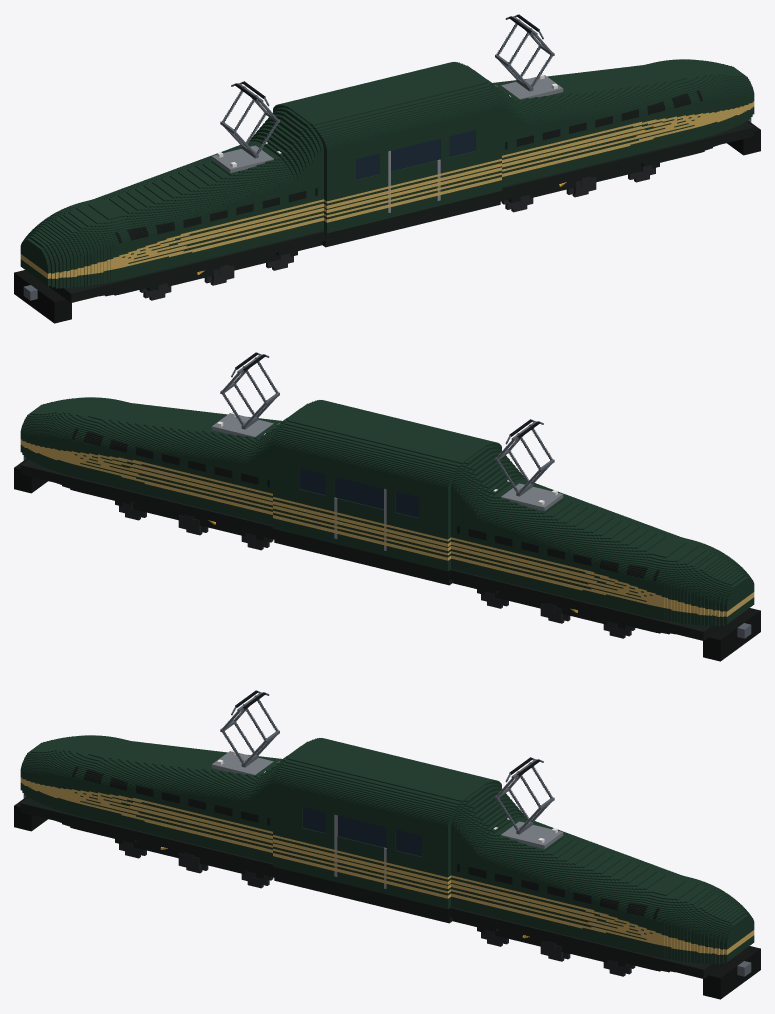
The model's file is gg1_front.obj.
The picture shows the model from 3 angles, top to bottom: view 1: azimuth 30°, elevation 25°; view 2: azimuth 150°, elevation 25°; view 3: azimuth 330°, elevation 25°; orthographic projection.
Visible parts, largest first — view 1: SHELL, FRAME, SHELL_pantograph, SHELL_pilot, BOGEY_FRONT, BOGEY_REAR; view 2: SHELL, FRAME, SHELL_pantograph, SHELL_pilot, BOGEY_FRONT, BOGEY_REAR; view 3: SHELL, FRAME, SHELL_pantograph, SHELL_pilot, BOGEY_FRONT, BOGEY_REAR.
Part boxes in pixels (x1,y1,x2,y2): SHELL: [20, 59, 754, 296]; FRAME: [49, 121, 754, 302]; SHELL_pantograph: [211, 14, 563, 172]; SHELL_pilot: [14, 117, 760, 323]; BOGEY_FRONT: [508, 163, 659, 202]; BOGEY_REAR: [146, 251, 297, 291]; SHELL: [20, 397, 754, 634]; FRAME: [20, 459, 725, 640]; SHELL_pantograph: [211, 352, 563, 510]; SHELL_pilot: [14, 455, 760, 661]; BOGEY_FRONT: [115, 501, 266, 540]; BOGEY_REAR: [477, 589, 628, 629]; SHELL: [20, 735, 754, 972]; FRAME: [20, 797, 725, 978]; SHELL_pantograph: [211, 690, 563, 848]; SHELL_pilot: [14, 793, 760, 999]; BOGEY_FRONT: [477, 927, 628, 967]; BOGEY_REAR: [115, 839, 266, 878].
Bounding box in the file's own units: 24.7 × 5.68 × 3.2.
1 material, 1 textured.
